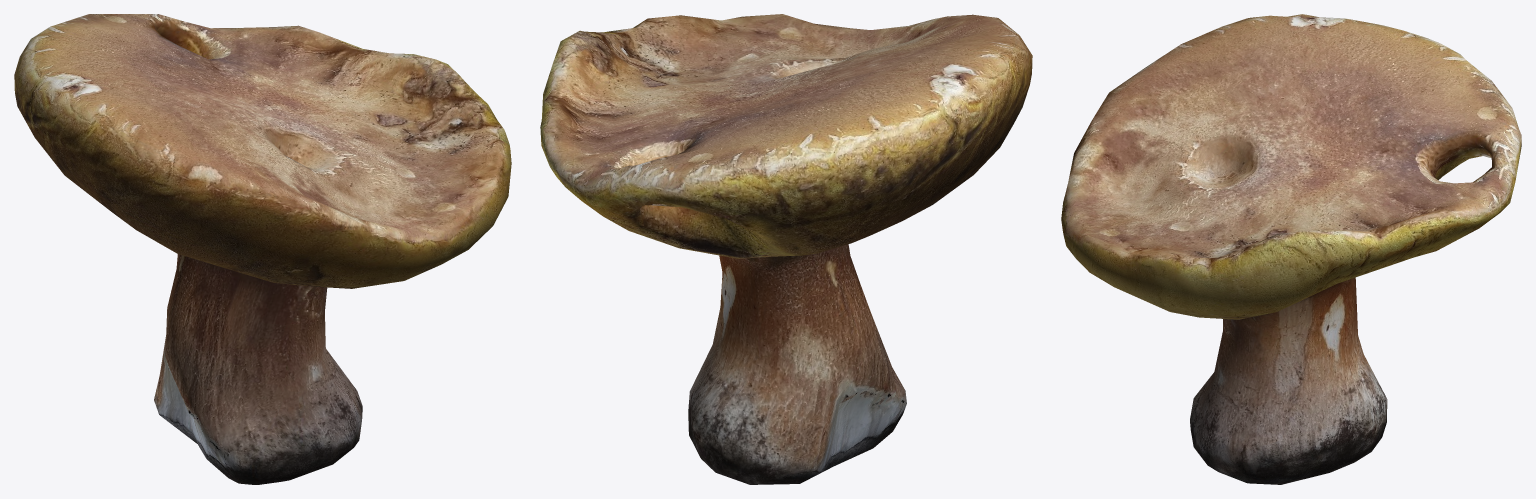
The model's file is bolet-bai.glb.
The picture shows the model from 3 angles, left to right: view 1: azimuth 30°, elevation 25°; view 2: azimuth 150°, elevation 25°; view 3: azimuth 270°, elevation 25°; orthographic projection. The views are drawn at different scales.
Visible parts, largest first — view 1: mushroom_07; view 2: mushroom_07; view 3: mushroom_07.
Boxes of the visible parts, x1,y1,x2,y2 form: mushroom_07: (14,14,511,484); mushroom_07: (540,14,1032,484); mushroom_07: (1061,14,1521,484).
Bounding box in the file's own units: 5.79 × 5.43 × 6.13.
Materials: 1 (1 with a texture image).
